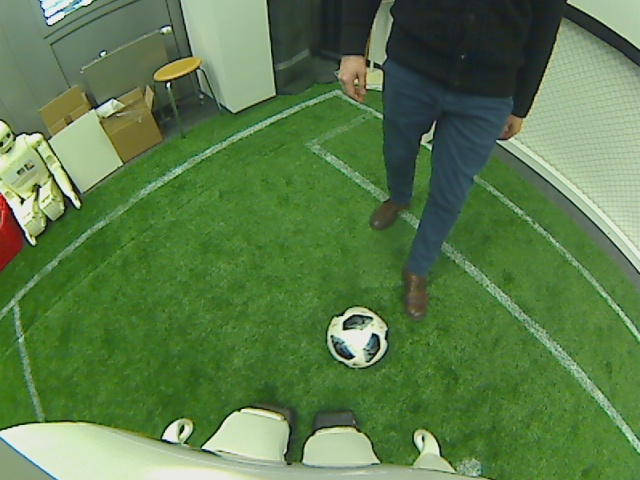ball: (324, 306, 389, 370)
